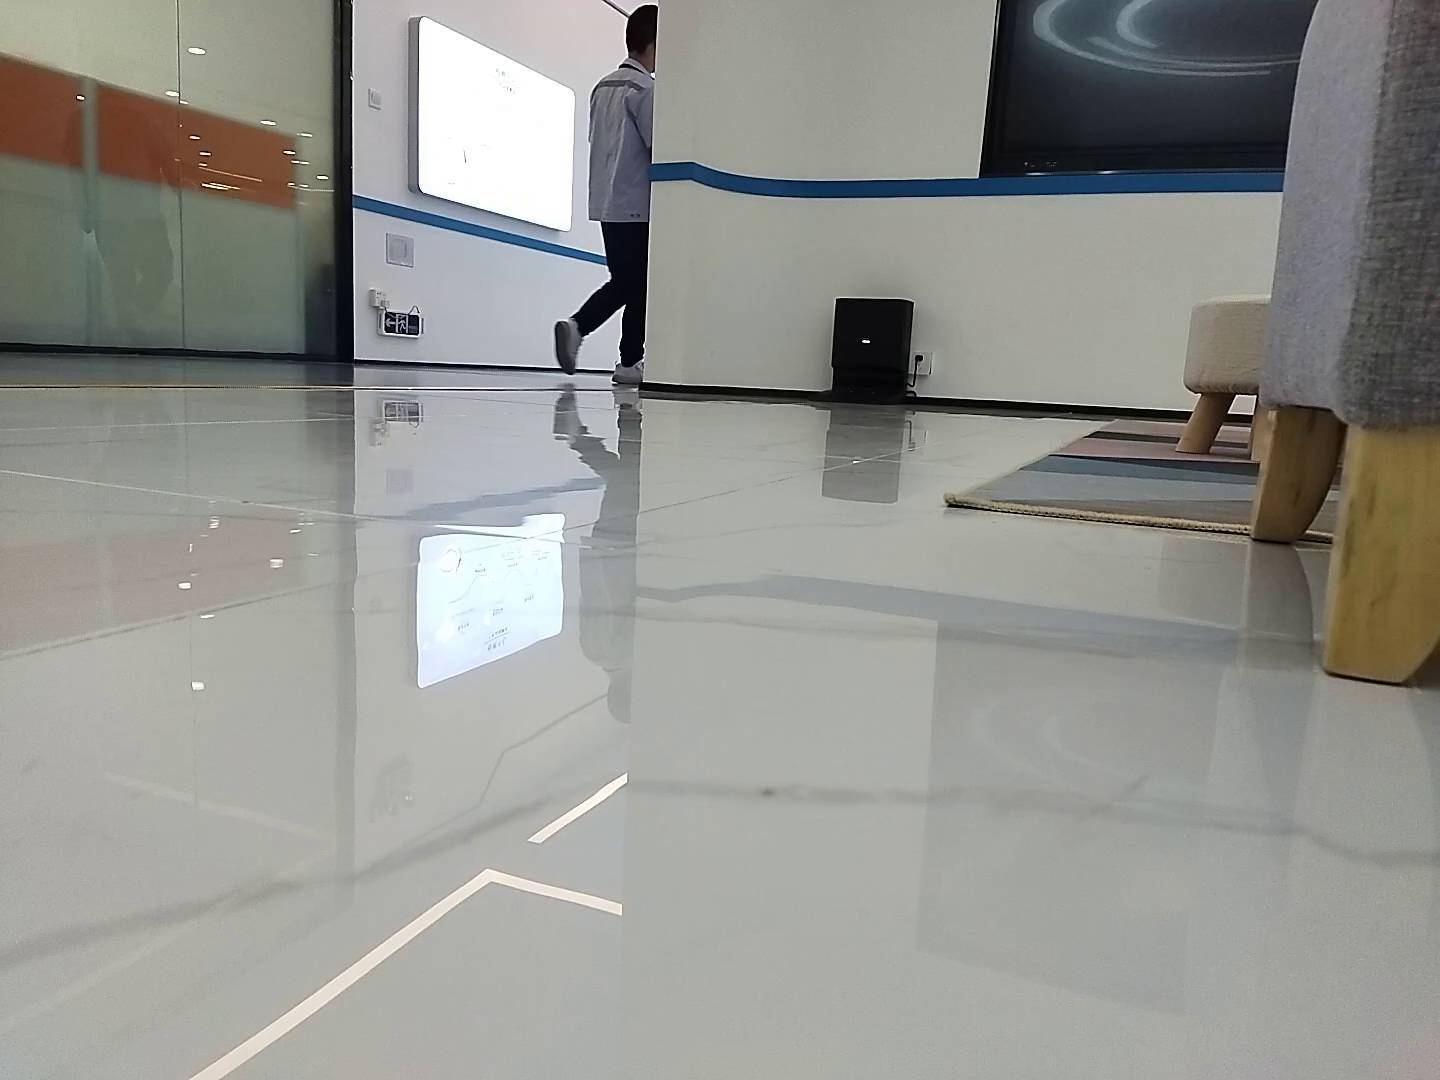dust collecting barrel: (798, 297, 915, 403)
